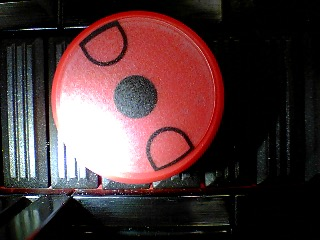BOHOMIPO2: (50, 10, 225, 185)
